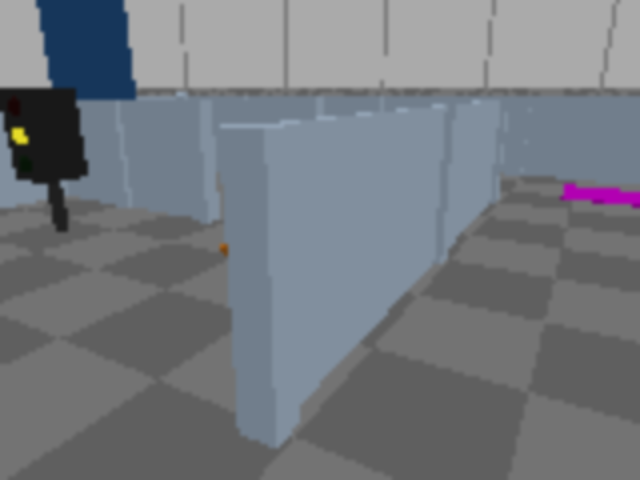goal_zone: (561, 185, 638, 208)
traffic_light: (0, 80, 97, 241)
